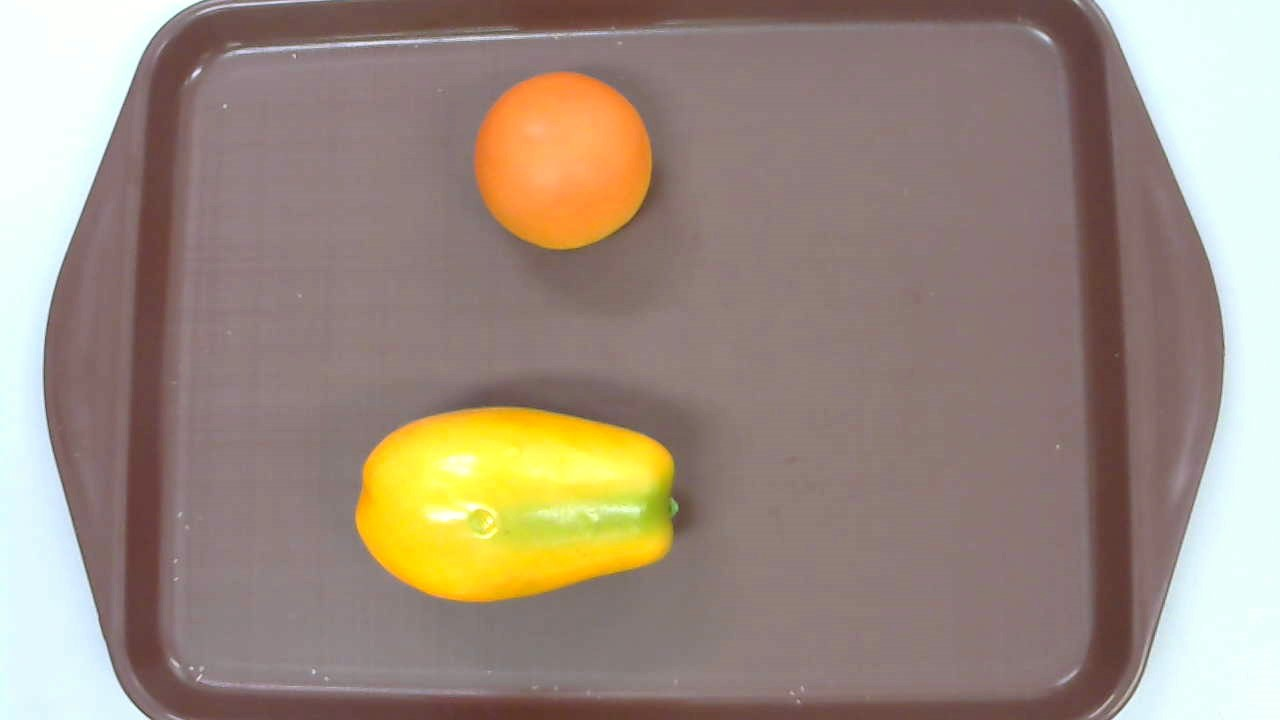bun: (474, 71, 652, 250)
papya: (353, 406, 679, 603)
